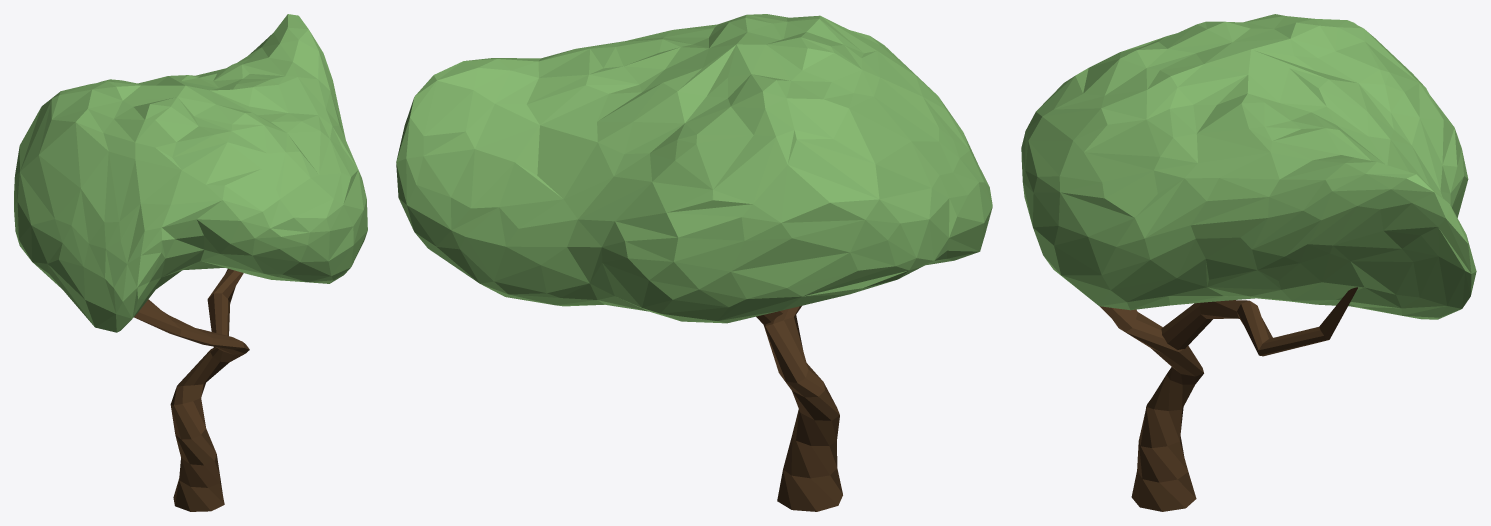
The model's file is Tree02.FBX.
3 renders of one model, left to right at view 1: azimuth 30°, elevation 25°; view 2: azimuth 150°, elevation 25°; view 3: azimuth 270°, elevation 25°, orthographic. The views are drawn at different scales.
Visible parts, largest first — view 1: Tree02; view 2: Tree02; view 3: Tree02.
Boxes of the visible parts, x1,y1,x2,y2 form: Tree02: (14,14,367,511); Tree02: (396,14,992,511); Tree02: (1021,14,1476,511).
Bounding box in the file's own units: 359 × 388 × 345.
1 material, 1 textured.
